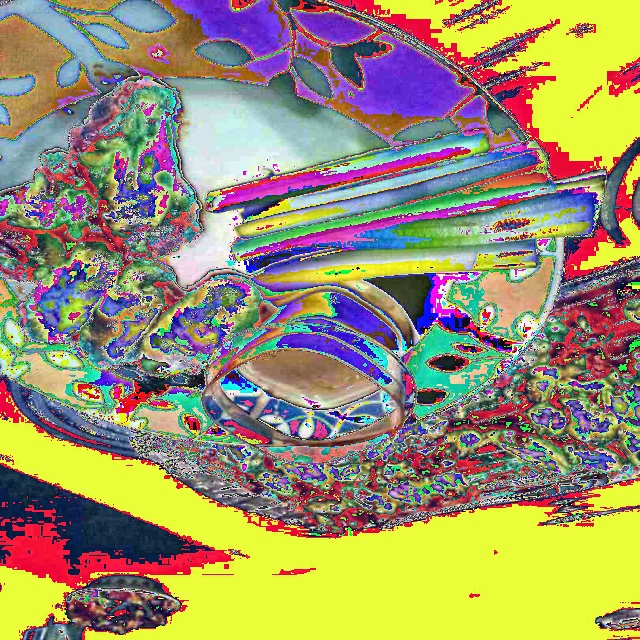background: (0, 78, 607, 413), (200, 230, 639, 534)
